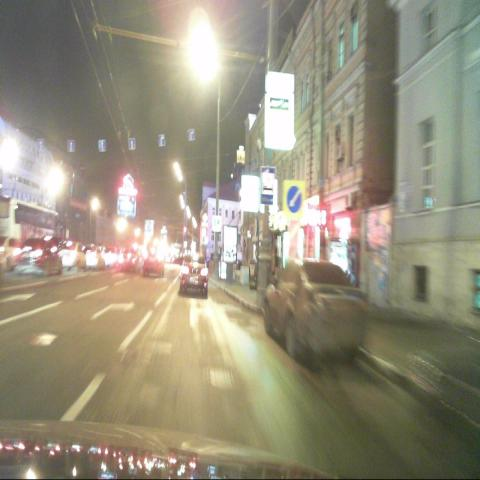7_2: (260, 165, 274, 206)
